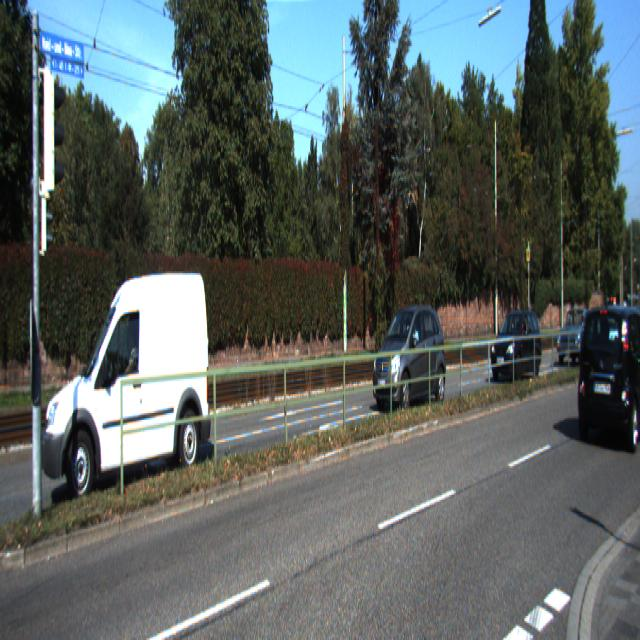Car: (576, 298, 640, 455), (374, 303, 448, 419), (491, 307, 544, 385), (557, 307, 601, 365)
Van: (46, 257, 211, 513)
